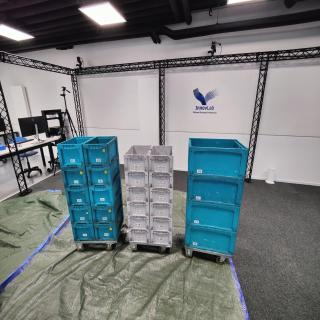Box8G: (124, 144, 154, 172), (149, 145, 175, 174), (150, 171, 176, 191), (125, 173, 151, 189), (150, 188, 174, 205), (151, 231, 174, 248), (126, 189, 151, 204), (130, 229, 152, 246), (151, 204, 174, 220), (151, 218, 174, 234), (128, 216, 151, 232), (128, 203, 151, 219)
BoxB4: (186, 136, 252, 180), (187, 177, 248, 212), (186, 201, 241, 237), (185, 226, 240, 260)
BoxB8: (83, 135, 121, 168), (90, 175, 125, 210), (97, 207, 128, 245), (57, 137, 94, 167), (95, 195, 126, 227), (87, 164, 124, 190), (64, 191, 93, 211), (62, 169, 89, 190), (69, 210, 93, 230), (73, 225, 96, 243)
